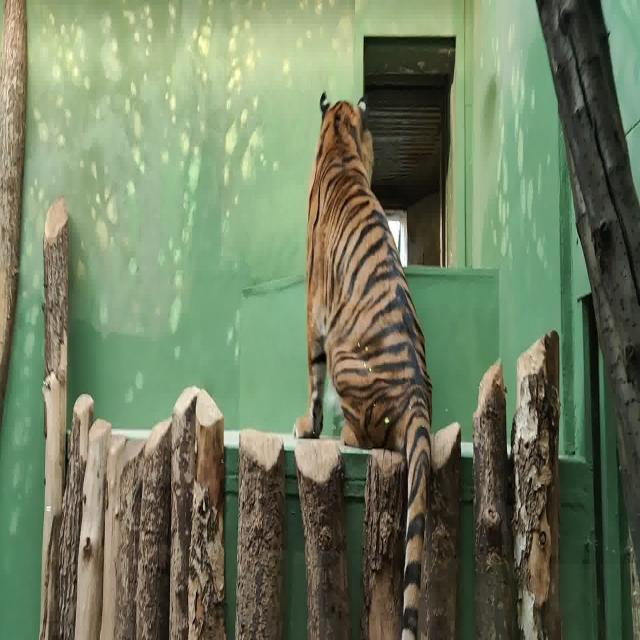tiger: (292, 89, 433, 640)
